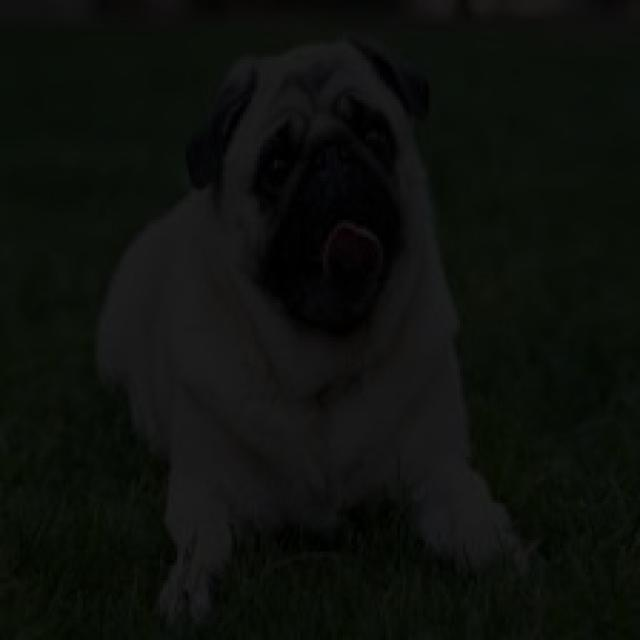animal: (90, 70, 557, 587)
